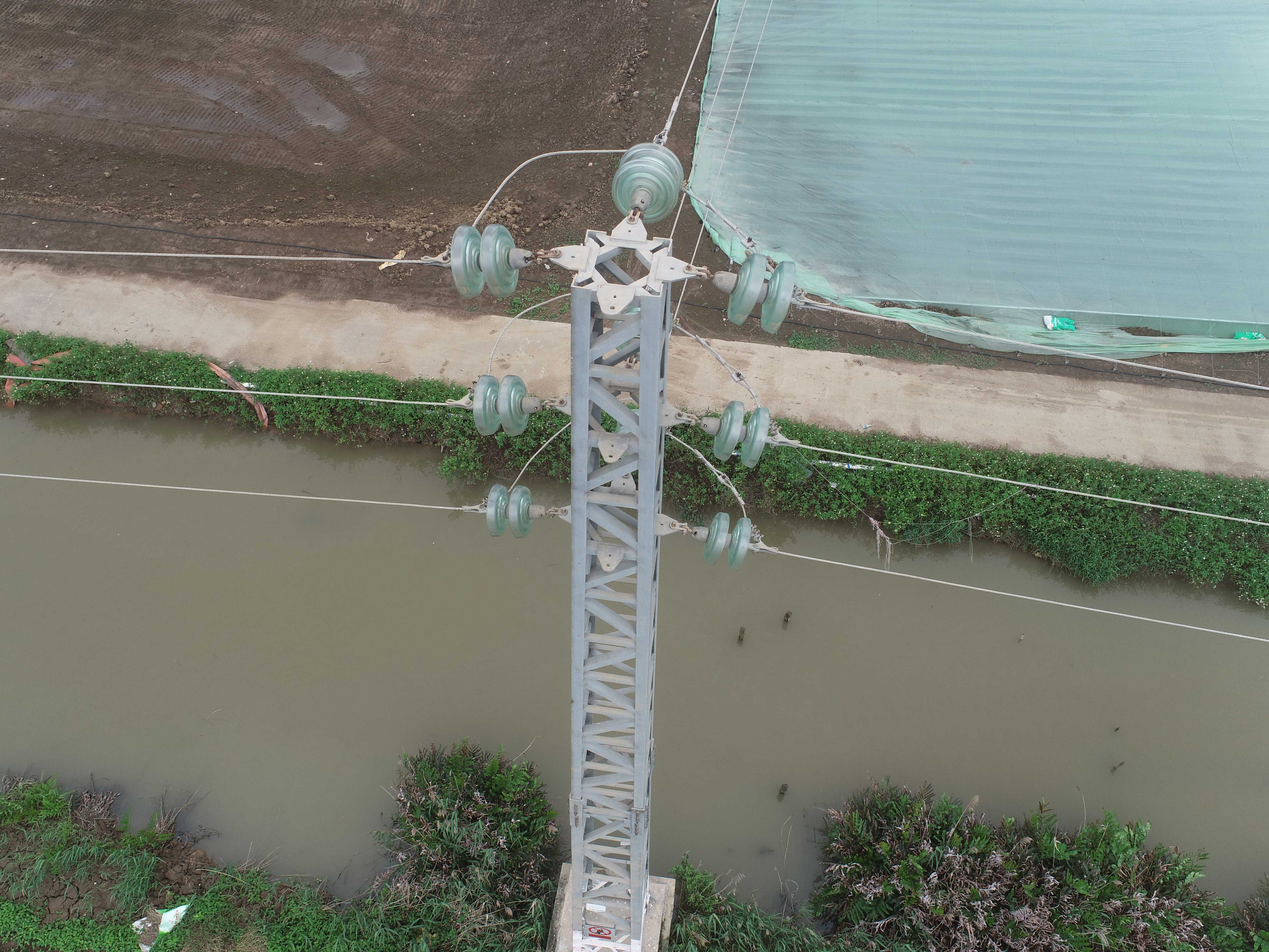异物: (769, 428, 1040, 571)
